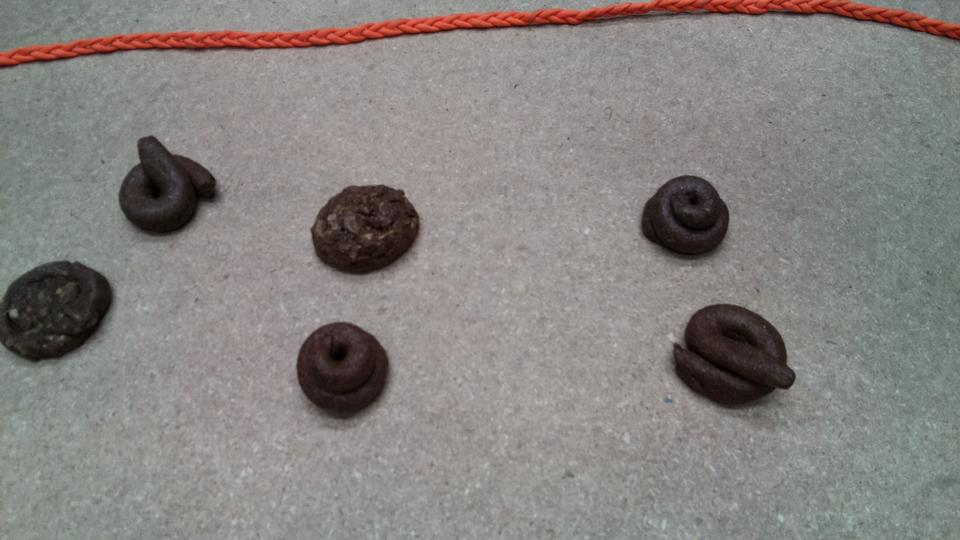poop: (667, 300, 798, 412), (1, 257, 116, 365), (309, 180, 423, 278), (115, 133, 221, 238), (293, 318, 392, 423), (639, 171, 734, 259)
rope: (1, 1, 957, 73)
